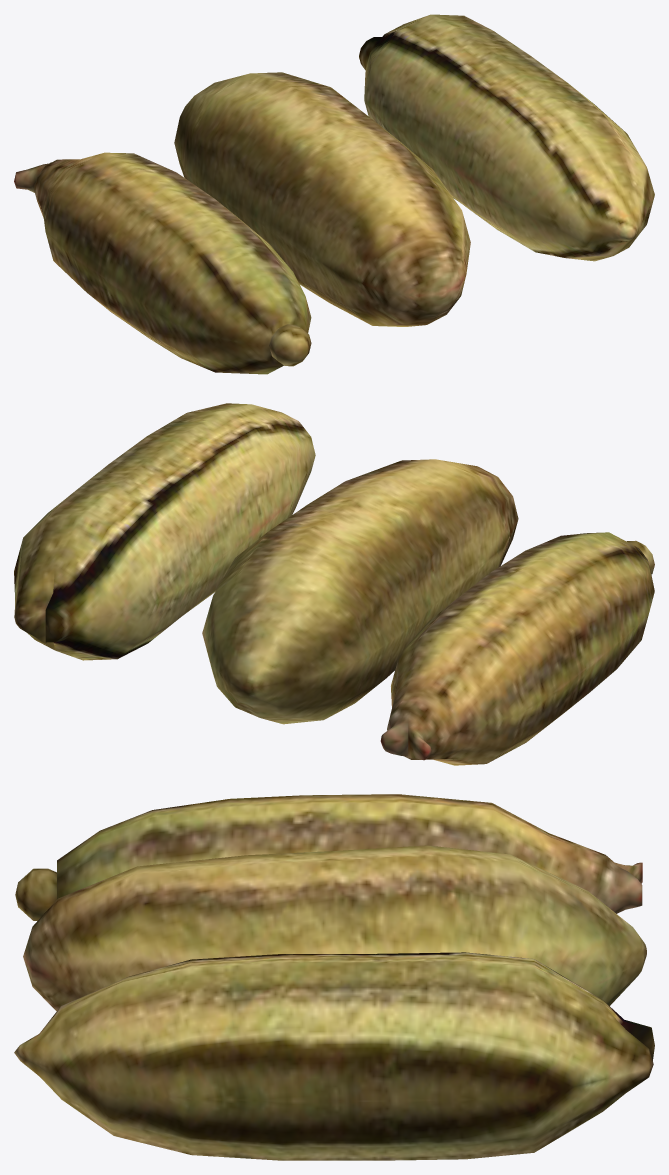
Rendered from huixiang.FBX.
3 renders of one model, top to bottom at view 1: azimuth 30°, elevation 25°; view 2: azimuth 150°, elevation 25°; view 3: azimuth 270°, elevation 25°, orthographic. The views are drawn at different scales.
Visible parts, largest first — view 1: Cylinder002, Cylinder003, Cylinder001; view 2: Cylinder002, Cylinder003, Cylinder001; view 3: Cylinder003, Cylinder002, Cylinder001.
Boxes of the visible parts, x1,y1,x2,y2 form: Cylinder002: (174,72,470,326); Cylinder003: (359,14,654,261); Cylinder001: (14,152,311,374); Cylinder002: (202,459,518,724); Cylinder003: (14,403,315,660); Cylinder001: (380,532,654,765); Cylinder003: (14,952,654,1160); Cylinder002: (23,845,646,1011); Cylinder001: (15,794,642,920).
Size of the model in its own units: 18.5 by 6.66 by 16.9.
Materials: 1 (1 with a texture image).
